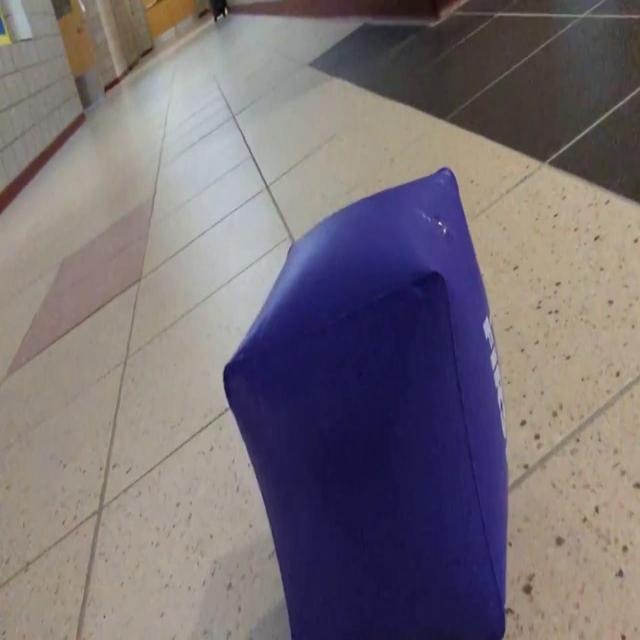frc_cube: (221, 163, 509, 640)
